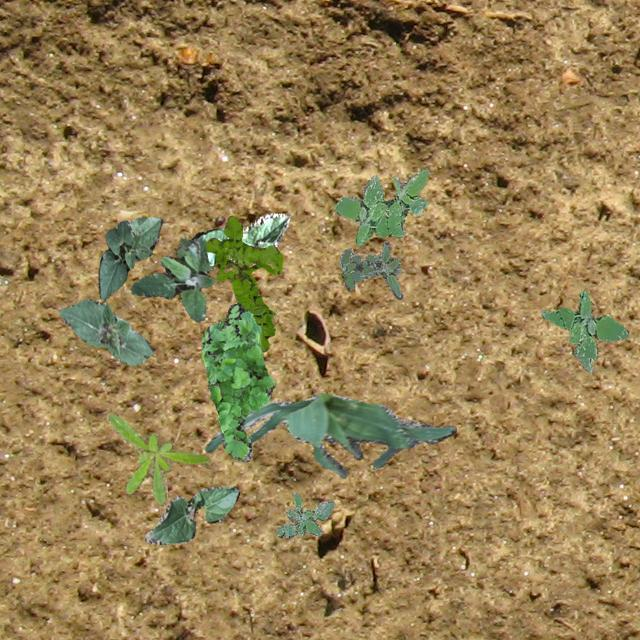crop: (204, 392, 456, 477), (57, 298, 152, 364), (144, 484, 238, 544), (98, 216, 162, 298), (190, 212, 288, 264)
weed: (200, 302, 274, 461), (204, 214, 282, 350), (106, 412, 210, 504), (332, 167, 428, 244), (540, 289, 628, 372), (130, 234, 213, 320), (338, 240, 402, 298), (274, 492, 334, 538)
